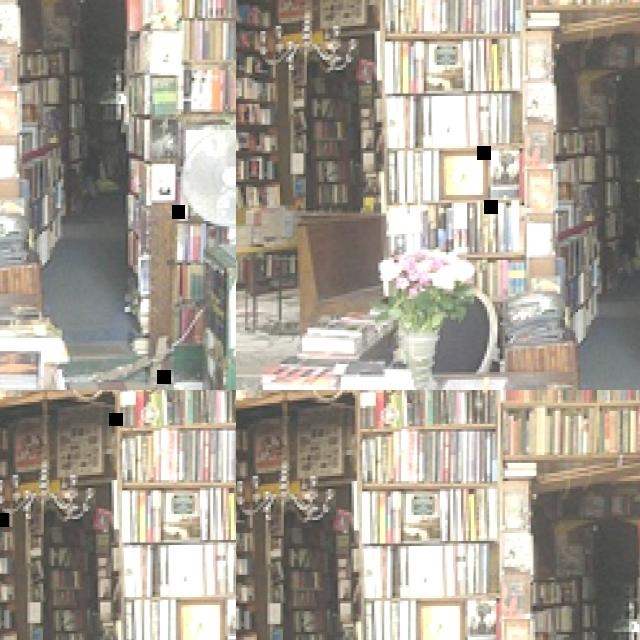Hardhat: (99, 185, 236, 299)
NO-Mask: (126, 350, 232, 390)
Person: (103, 179, 236, 390)
